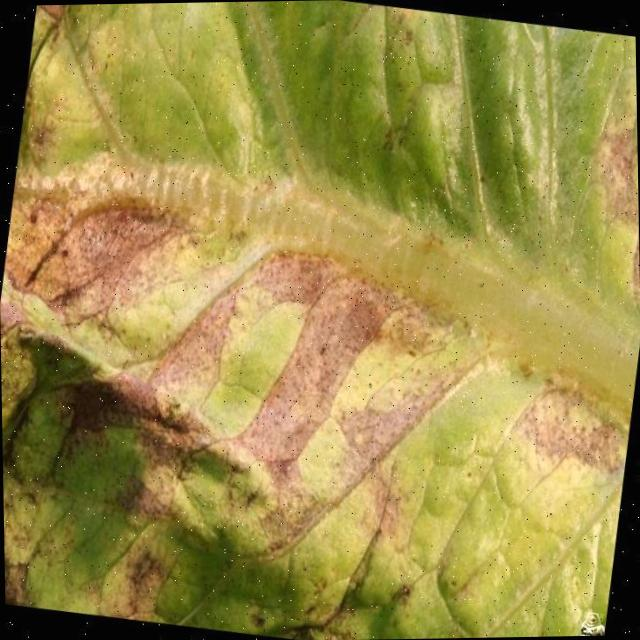Septoria_Blight: (0, 152, 377, 633)
